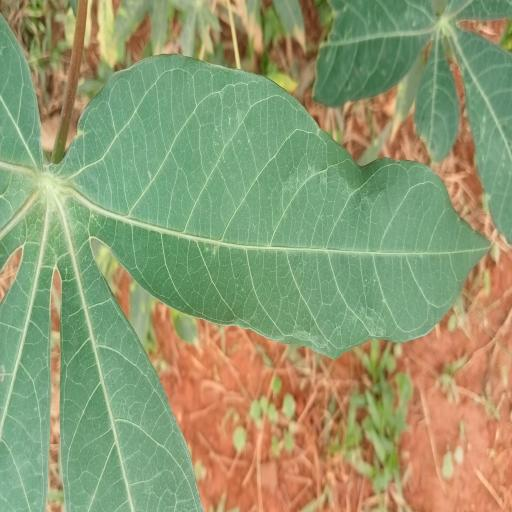Cassava_Healthy: (2, 6, 494, 512)
